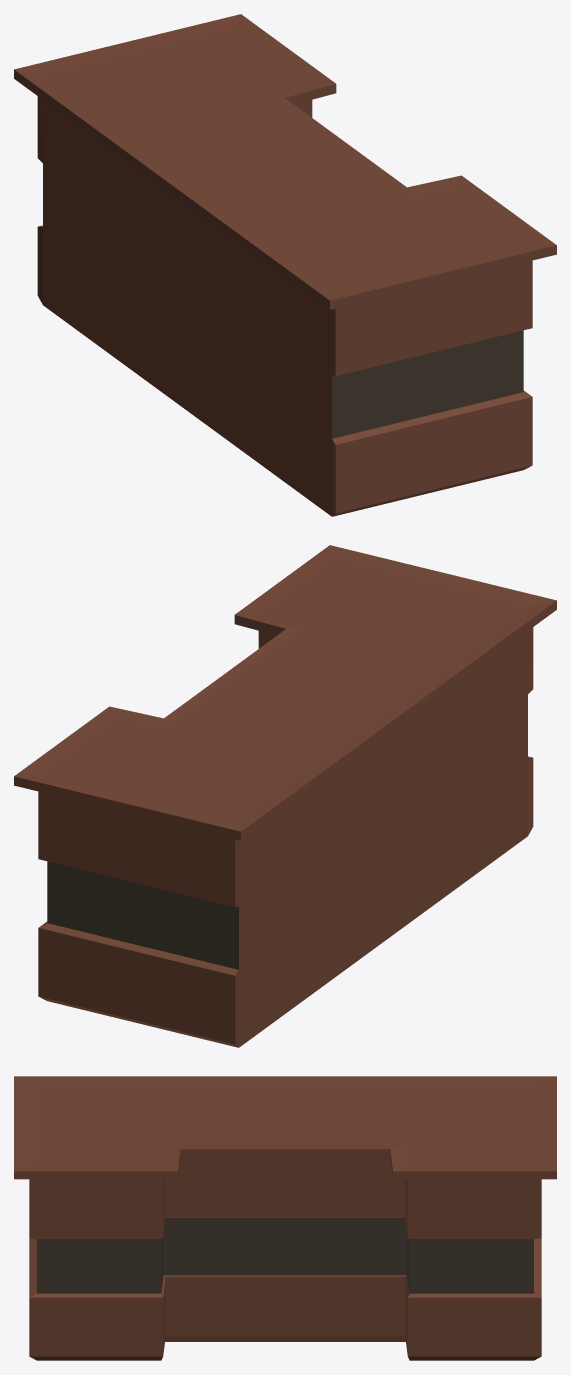
The model's file is BossManDesk2.fbx.
3 views of the same model, one above another, from view 1: azimuth 30°, elevation 25°; view 2: azimuth 150°, elevation 25°; view 3: azimuth 270°, elevation 25° (orthographic). The views are drawn at different scales.
Visible parts, largest first — view 1: BossManDesk2; view 2: BossManDesk2; view 3: BossManDesk2.
Boxes of the visible parts, bbox=[...] form: BossManDesk2: bbox=[14, 14, 556, 516]; BossManDesk2: bbox=[14, 545, 556, 1047]; BossManDesk2: bbox=[14, 1076, 556, 1360].
Size of the model in its own units: 379 by 367 by 913.
